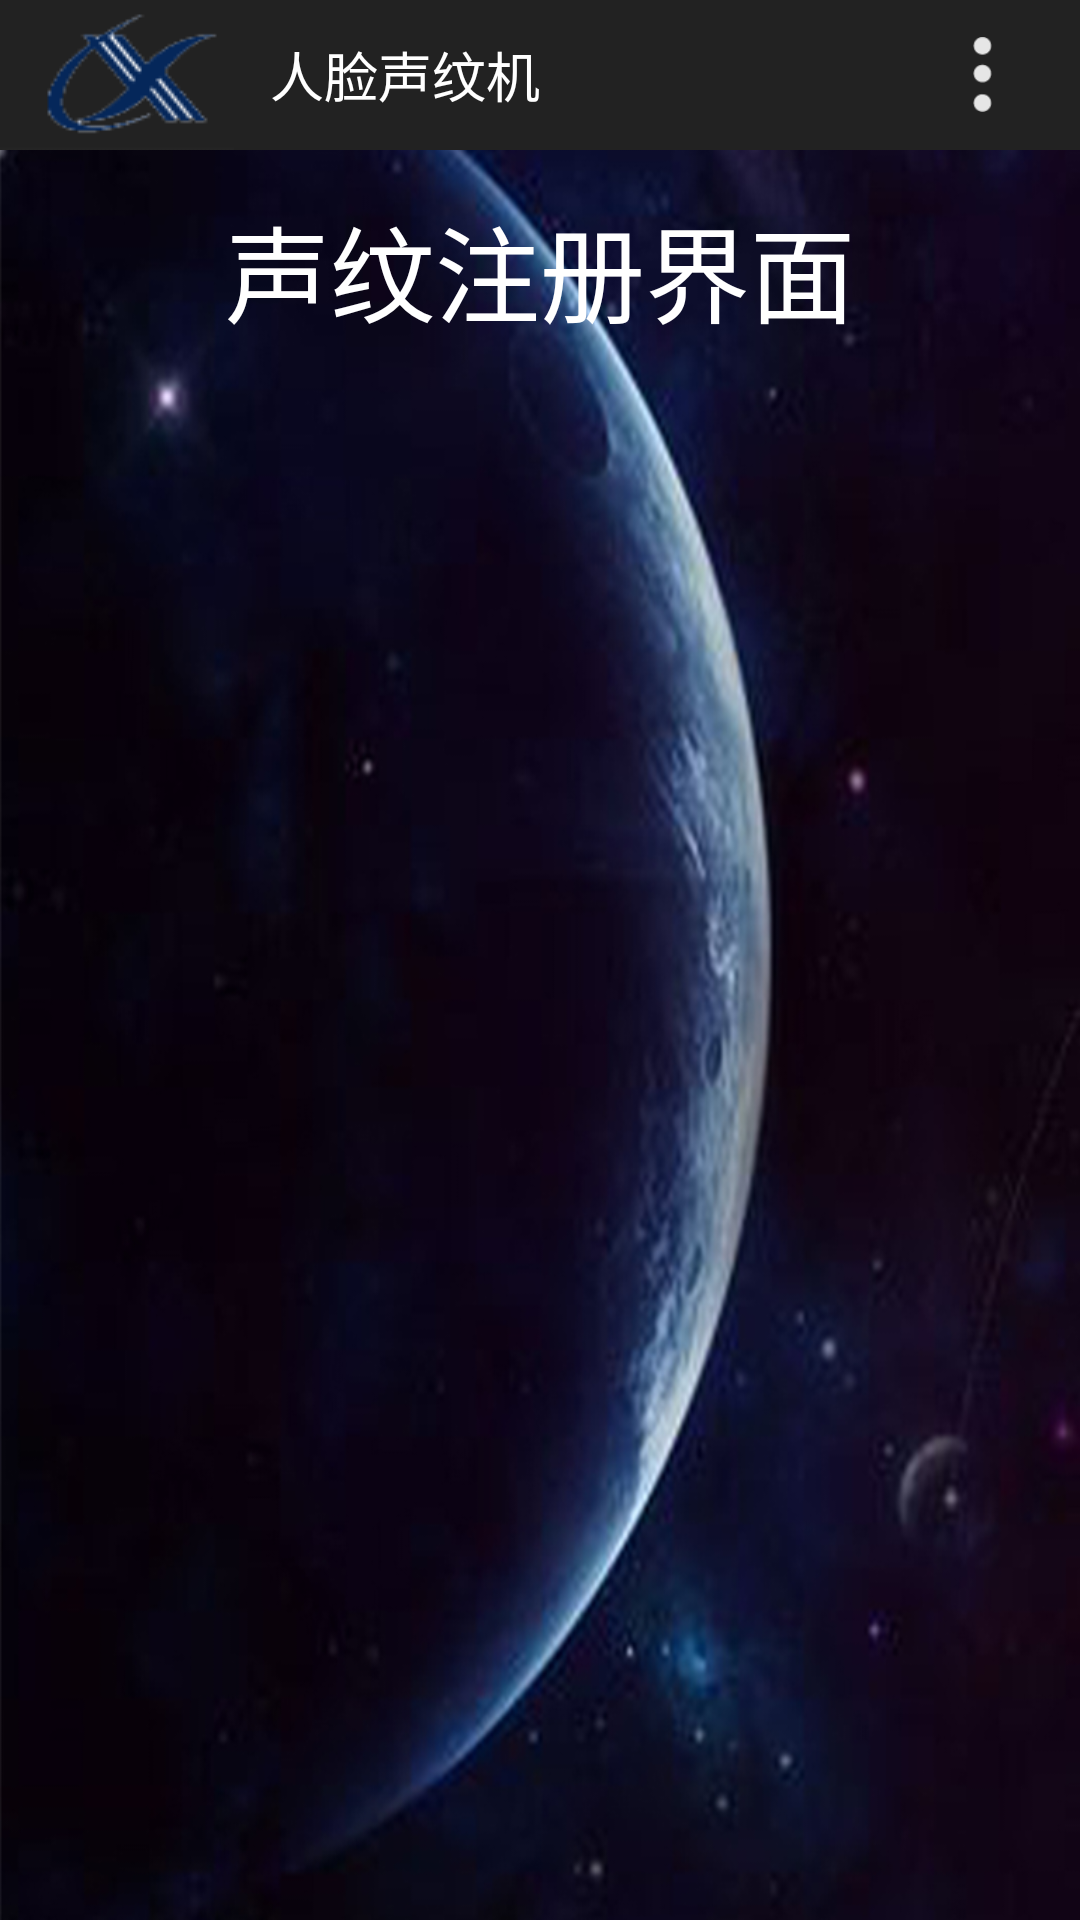

Icons on this 1080 × 1920 Android screen, each with its box as (x1, y1, x2, y2):
more: (973, 37, 992, 112)
